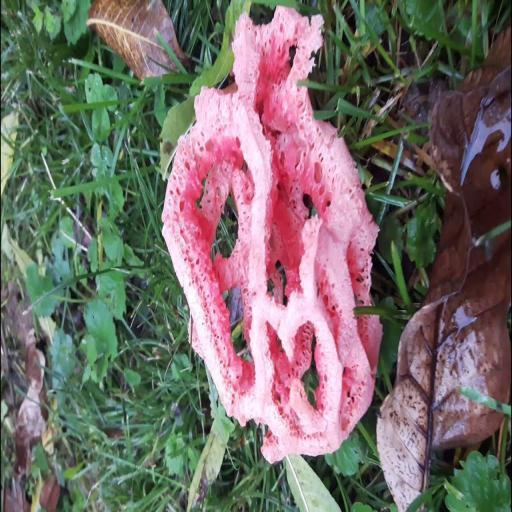mushroom: (163, 9, 381, 464)
